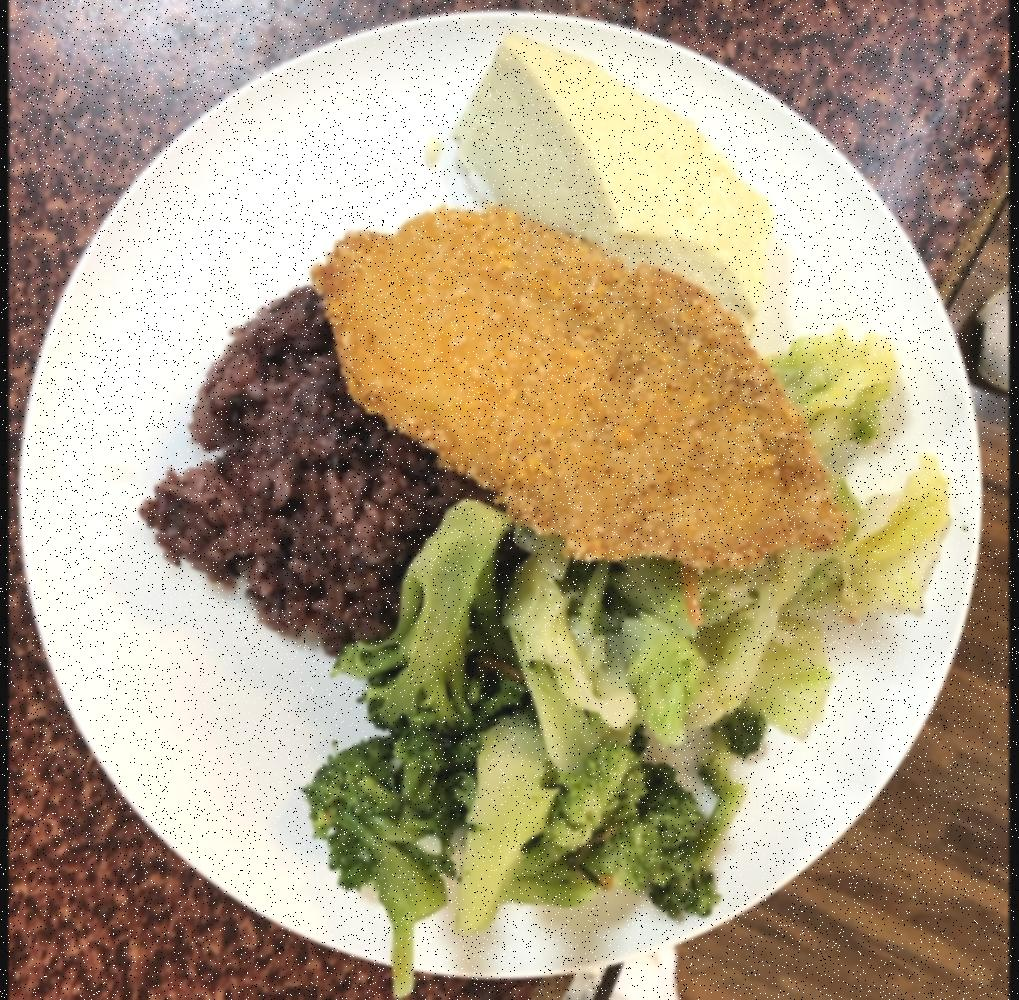chicken steak: (315, 201, 858, 588)
plate: (27, 4, 986, 1000)
purple rice: (128, 273, 494, 671)
side dish: (316, 502, 705, 998), (638, 311, 950, 761), (434, 25, 780, 327)
